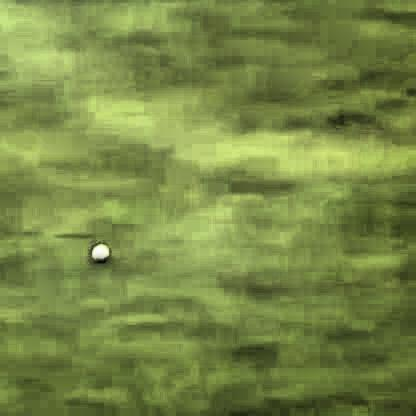golfball: (88, 241, 110, 260)
